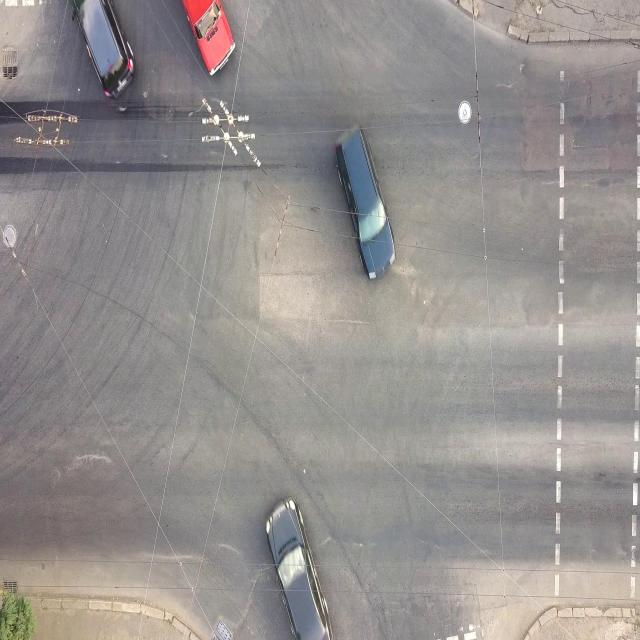Car: (328, 103, 404, 300), (266, 497, 332, 639), (65, 0, 137, 104), (178, 0, 244, 88)
